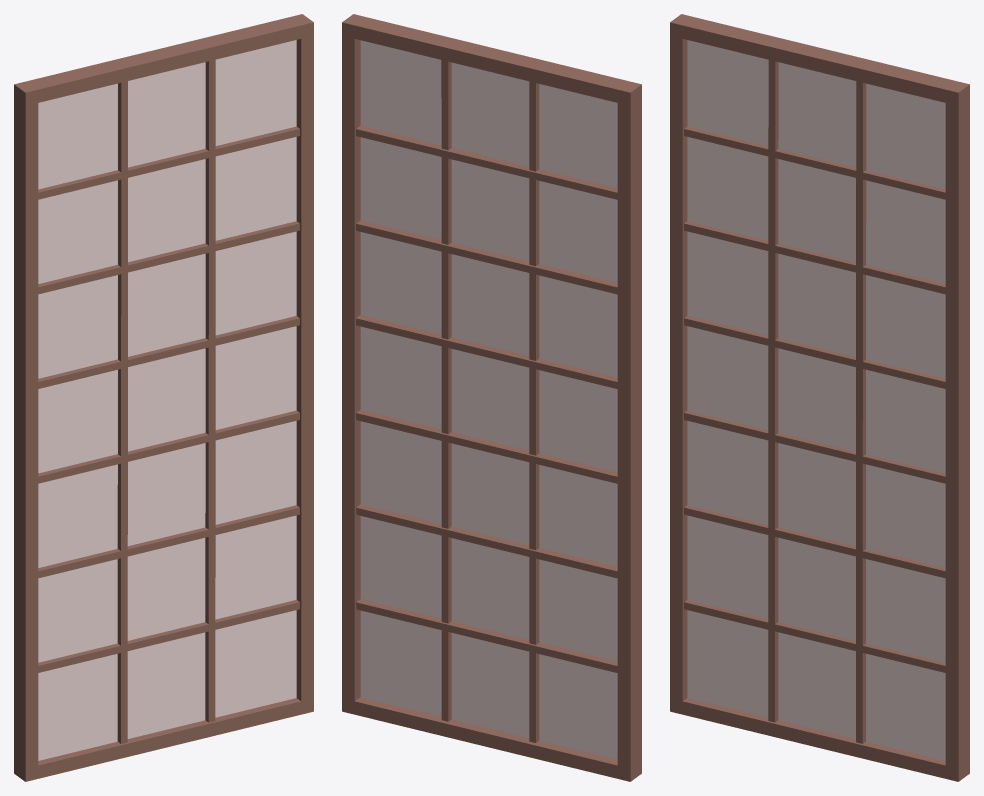
Rendered from window_034.glb.
The picture shows the model from 3 angles, left to right: view 1: azimuth 30°, elevation 25°; view 2: azimuth 150°, elevation 25°; view 3: azimuth 330°, elevation 25°; orthographic projection.
Parts seen in each view (by area): view 1: window_034; view 2: window_034; view 3: window_034.
Boxes of the visible parts, bbox=[...] form: window_034: bbox=[14, 14, 313, 781]; window_034: bbox=[342, 14, 641, 781]; window_034: bbox=[670, 14, 969, 781].
Bounding box in the file's own units: 1.21 × 2.76 × 0.0831.
Materials: 1 (1 with a texture image).
